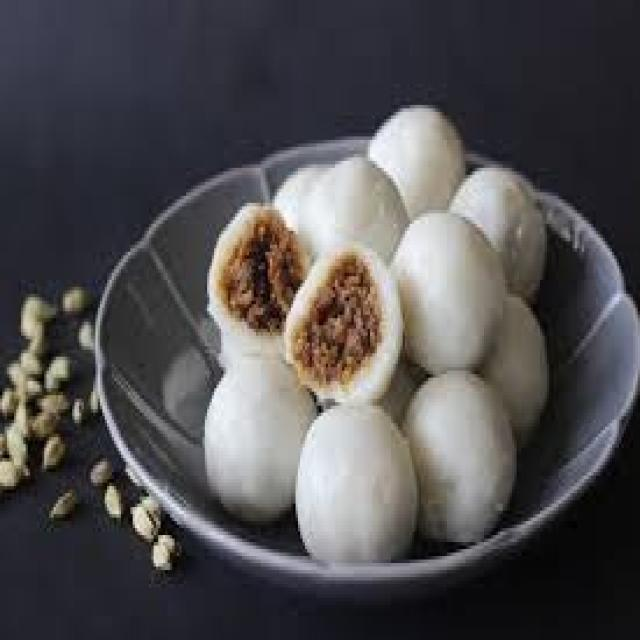poorna kolukattai: (160, 75, 592, 589)
